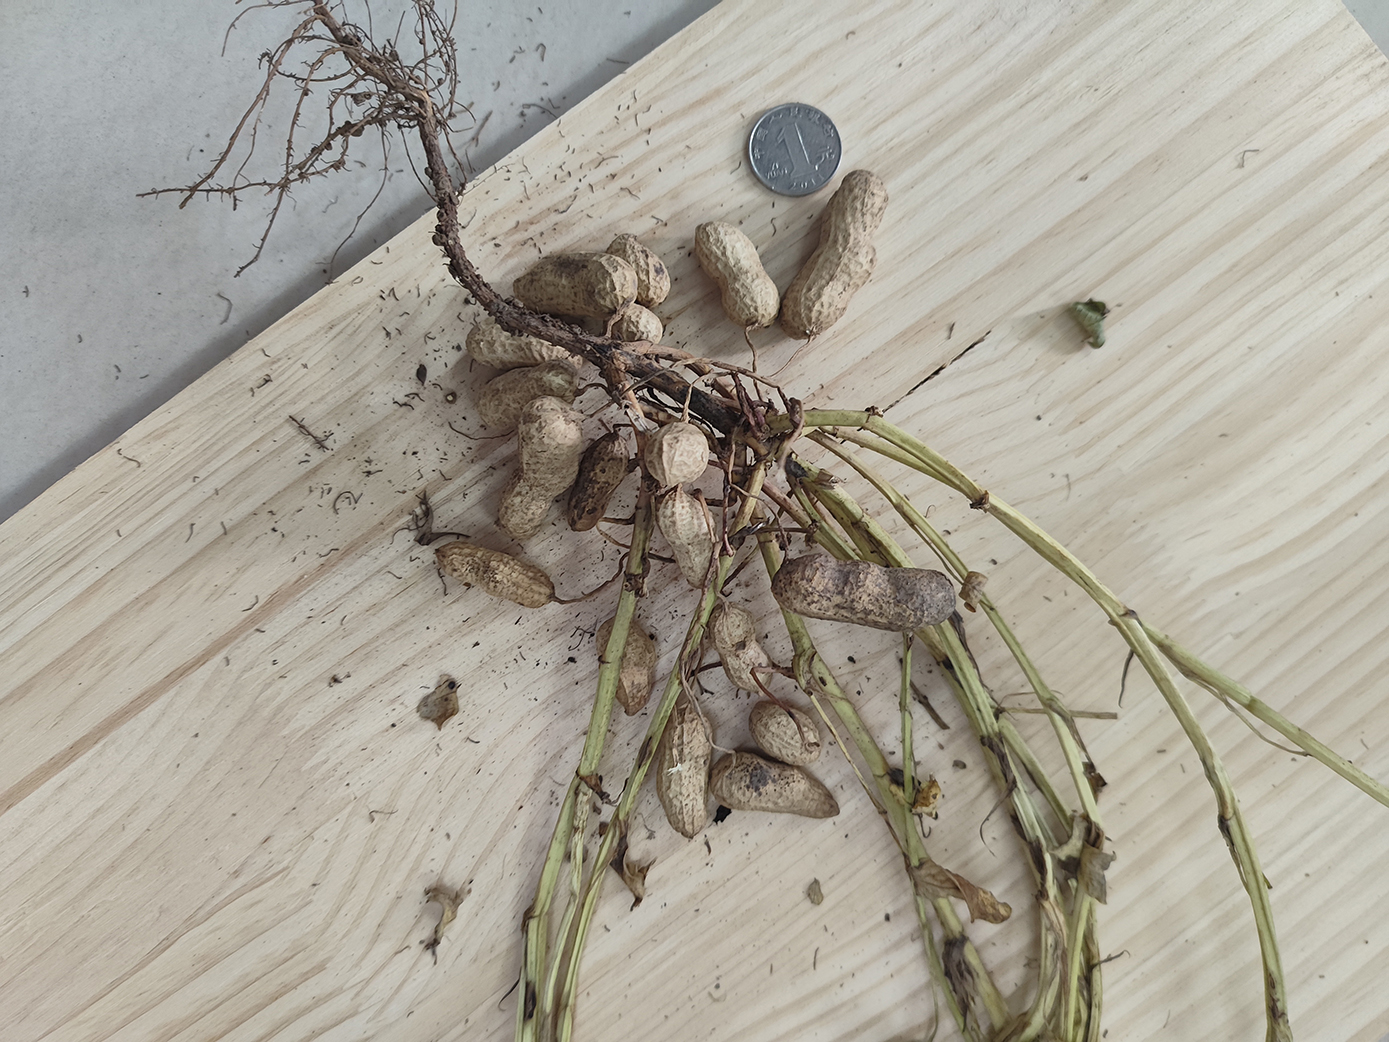h: (780, 167, 888, 338), (499, 396, 577, 539), (694, 221, 782, 328), (513, 252, 637, 320), (435, 544, 554, 613), (711, 752, 838, 817), (657, 713, 714, 840), (593, 616, 655, 715), (465, 320, 582, 371), (658, 488, 718, 588), (476, 363, 578, 421), (710, 607, 774, 693), (749, 699, 822, 766), (607, 235, 672, 308), (648, 421, 708, 491), (606, 306, 661, 347)
l: (773, 555, 954, 632), (568, 433, 629, 533)
